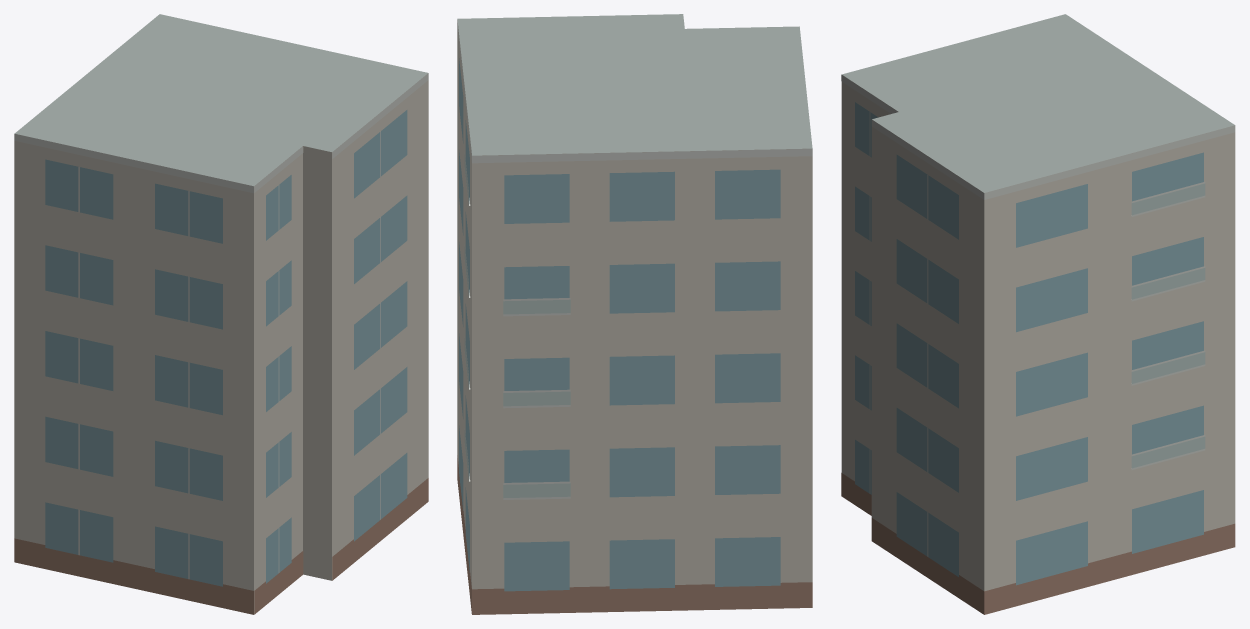
File: survey-upis-32694365.glb
3 views of the same model, side by side, from view 1: azimuth 30°, elevation 25°; view 2: azimuth 150°, elevation 25°; view 3: azimuth 270°, elevation 25° (orthographic). The views are drawn at different scales.
Parts seen in each view (by area): view 1: survey-upis-32694365.tmp; view 2: survey-upis-32694365.tmp; view 3: survey-upis-32694365.tmp.
Boxes of the visible parts, x1,y1,x2,y2 form: survey-upis-32694365.tmp: [14, 14, 428, 614]; survey-upis-32694365.tmp: [457, 14, 812, 614]; survey-upis-32694365.tmp: [841, 14, 1235, 614].
Size of the model in its own units: 13.39 by 14.7 by 12.45.
